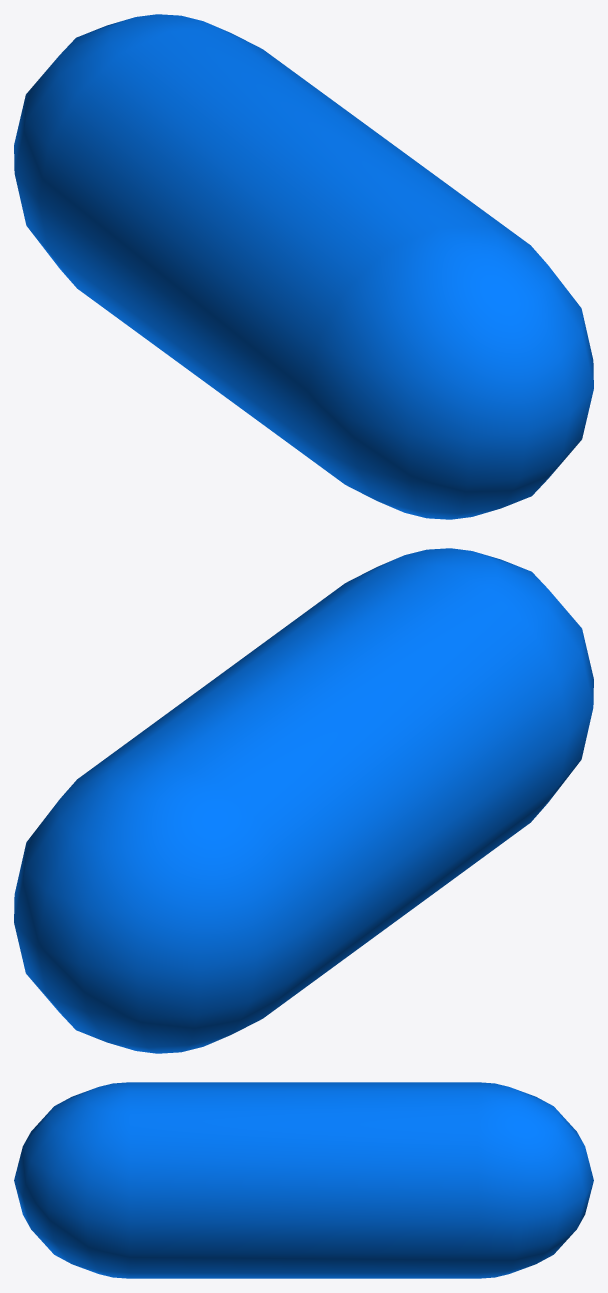
File: Laser.fbx
The picture shows the model from 3 angles, top to bottom: view 1: azimuth 30°, elevation 25°; view 2: azimuth 150°, elevation 25°; view 3: azimuth 270°, elevation 25°; orthographic projection. The views are drawn at different scales.
Visible parts, largest first — view 1: Sphere; view 2: Sphere; view 3: Sphere.
Part boxes in pixels (x1,y1,x2,y2): Sphere: (14,14,593,519); Sphere: (14,548,593,1053); Sphere: (14,1082,593,1278).
Bounding box in the file's own units: 195 × 195 × 575.
